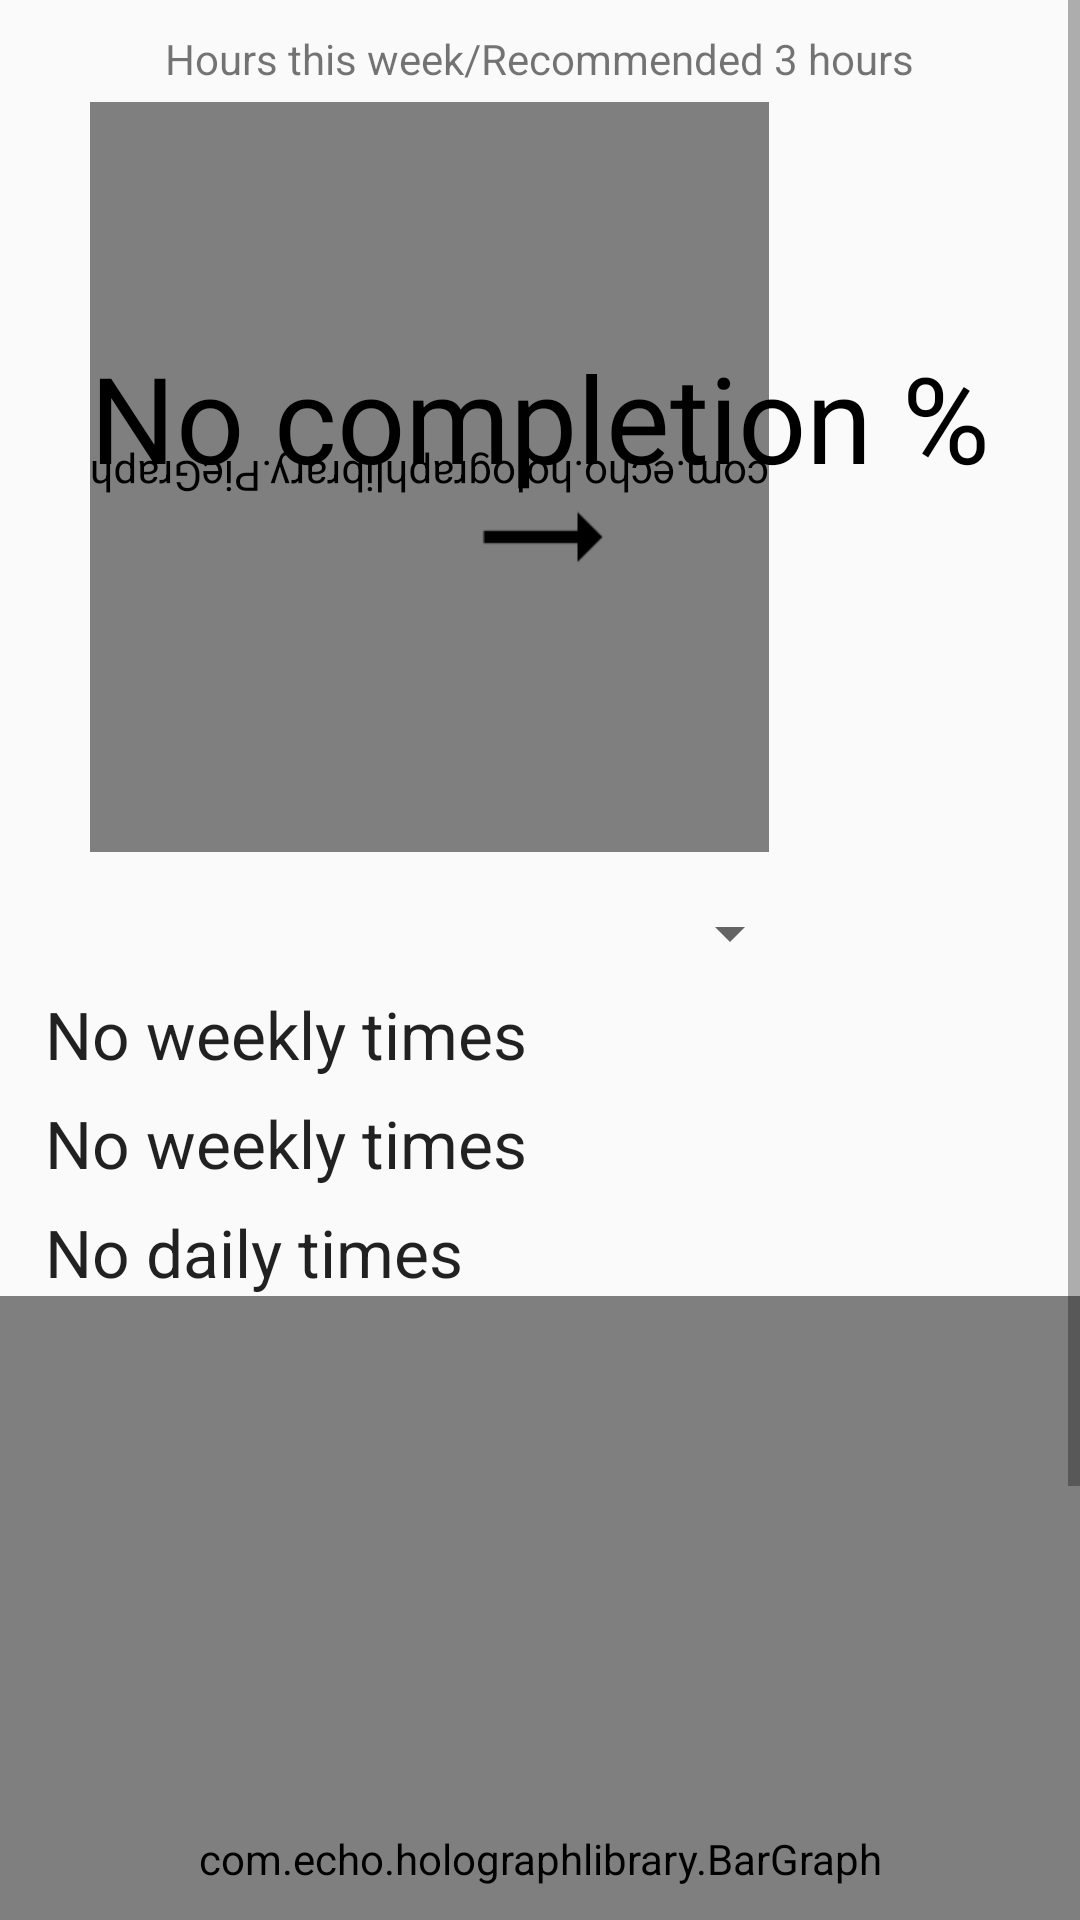

Named icons in this screenshot (1080w x 1920h) and their bounding boxes, [x1,y1,x2,y2]:
trending neutral: [483,462,602,562]
